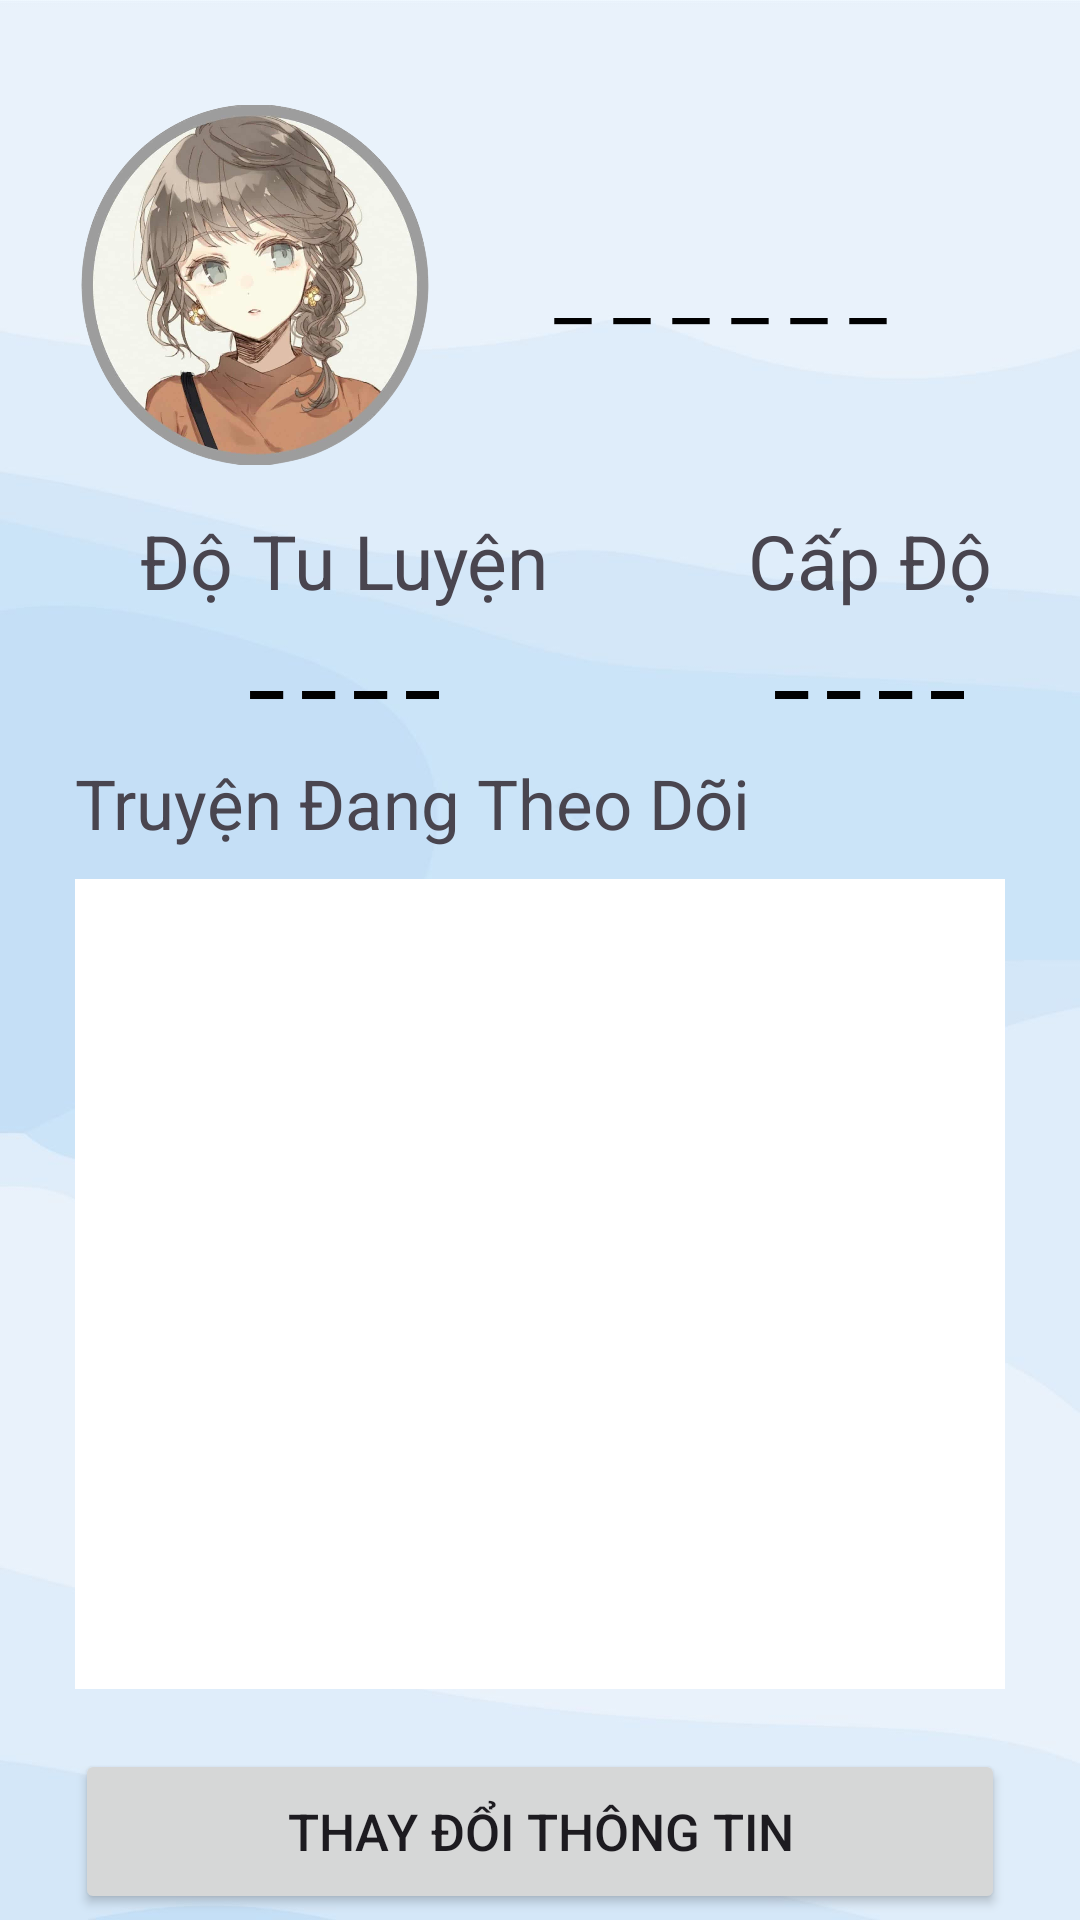

Screen size 1080px×1920px. Icon name, then its box in pixels as (x1, y1, x2, y2):
anhdaidien: (81, 105, 429, 465)
